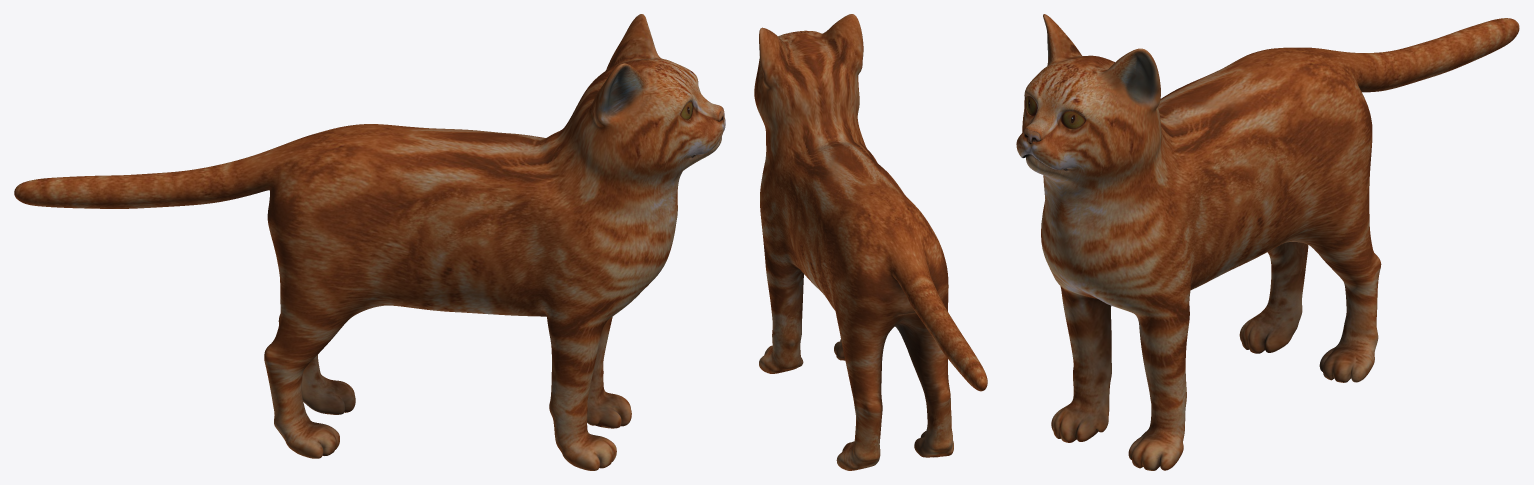
Rendered from cat2.glb.
3 renders of one model, left to right at view 1: azimuth 30°, elevation 25°; view 2: azimuth 150°, elevation 25°; view 3: azimuth 270°, elevation 25°, orthographic. The views are drawn at different scales.
Parts seen in each view (by area): view 1: 12221_Cat_v1_l3; view 2: 12221_Cat_v1_l3; view 3: 12221_Cat_v1_l3.
Part boxes in pixels (<box>): 12221_Cat_v1_l3: <box>14,14,725,470</box>; 12221_Cat_v1_l3: <box>754,14,987,470</box>; 12221_Cat_v1_l3: <box>1016,14,1519,470</box>.
Bounding box in the file's own units: 47.39 × 38.34 × 39.99.
1 material, 1 textured.
